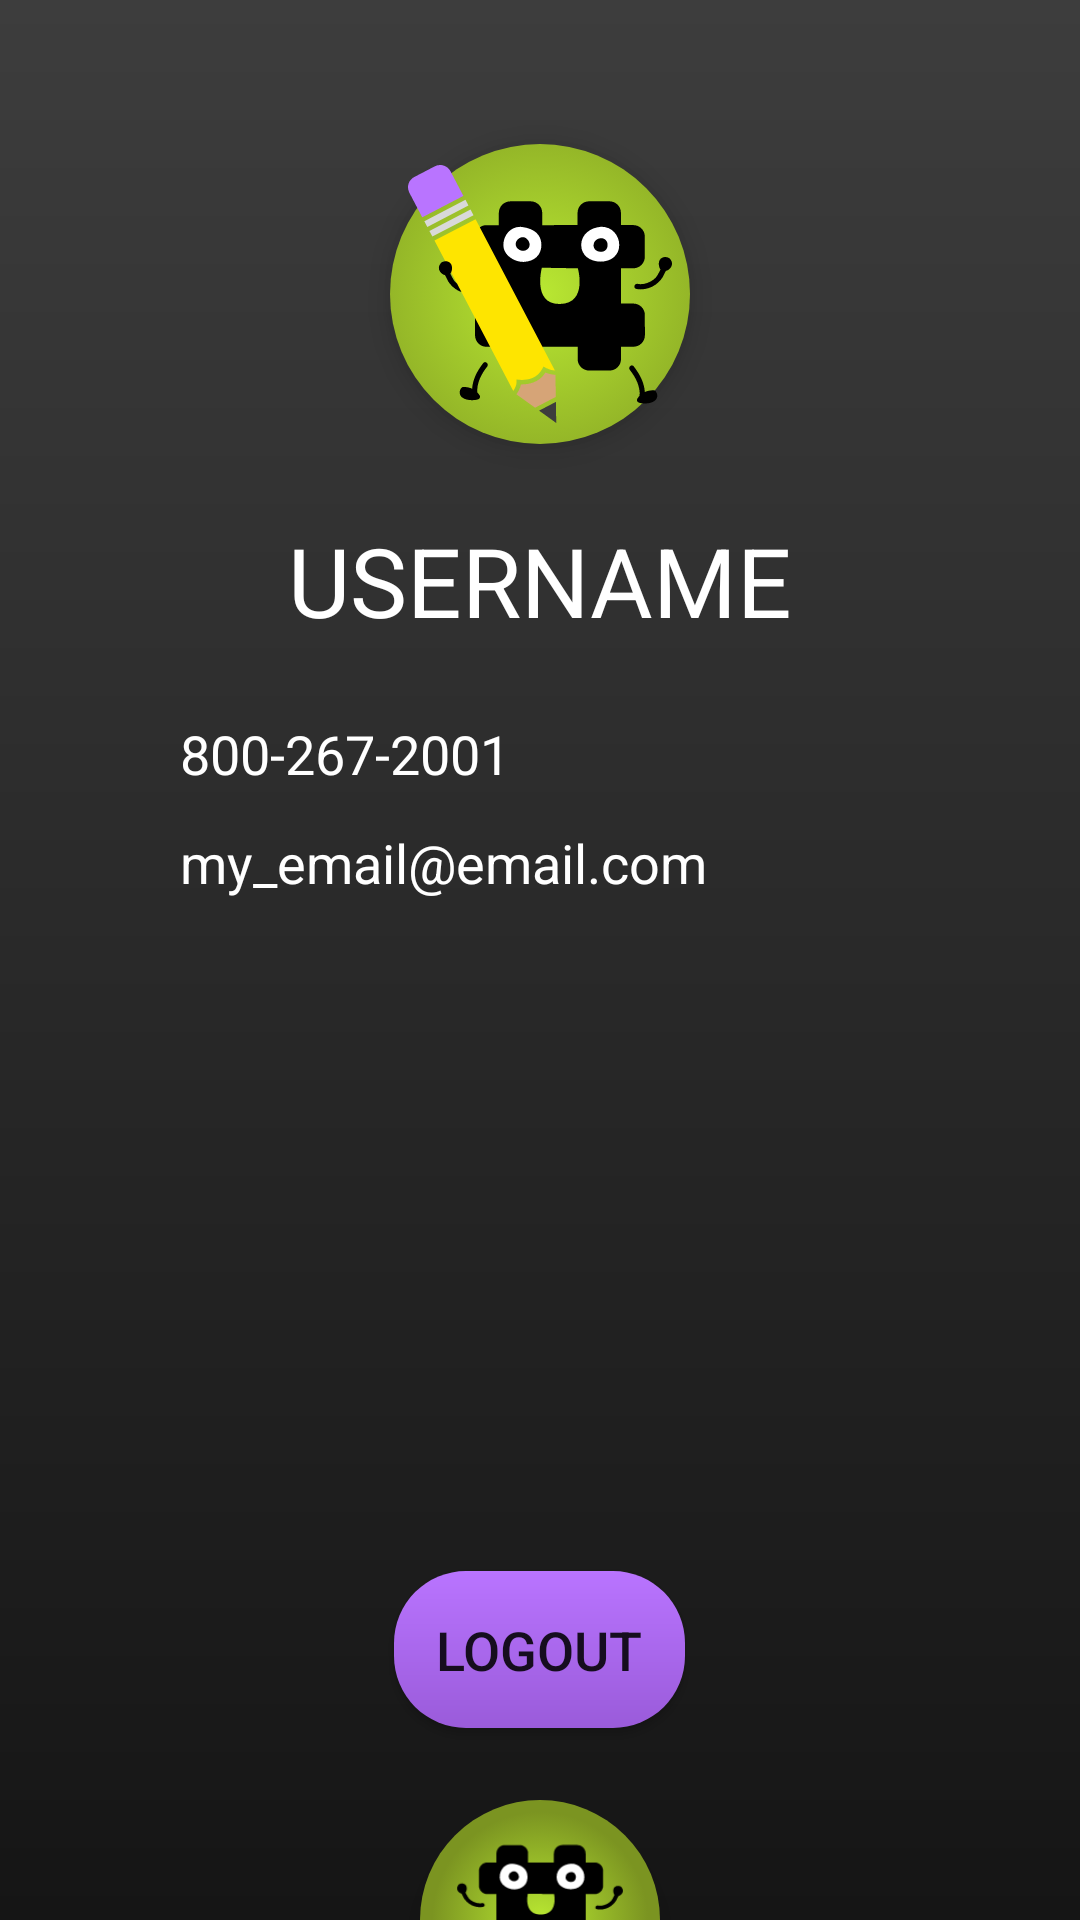

Screen size 1080*1920. Icon name, then its box in pixels as {"x1": x1, "y1": y1, "x2": x2, "y2": y2}:
edit: {"x1": 390, "y1": 144, "x2": 690, "y2": 444}
